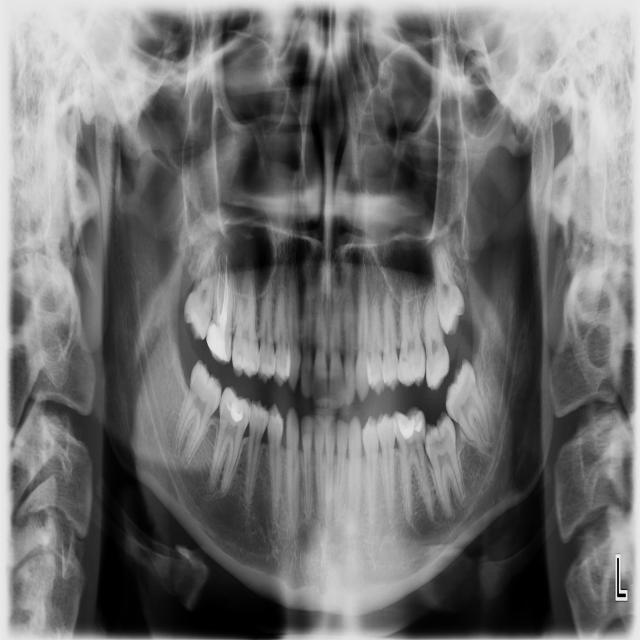mandibula: (91, 96, 559, 612)
